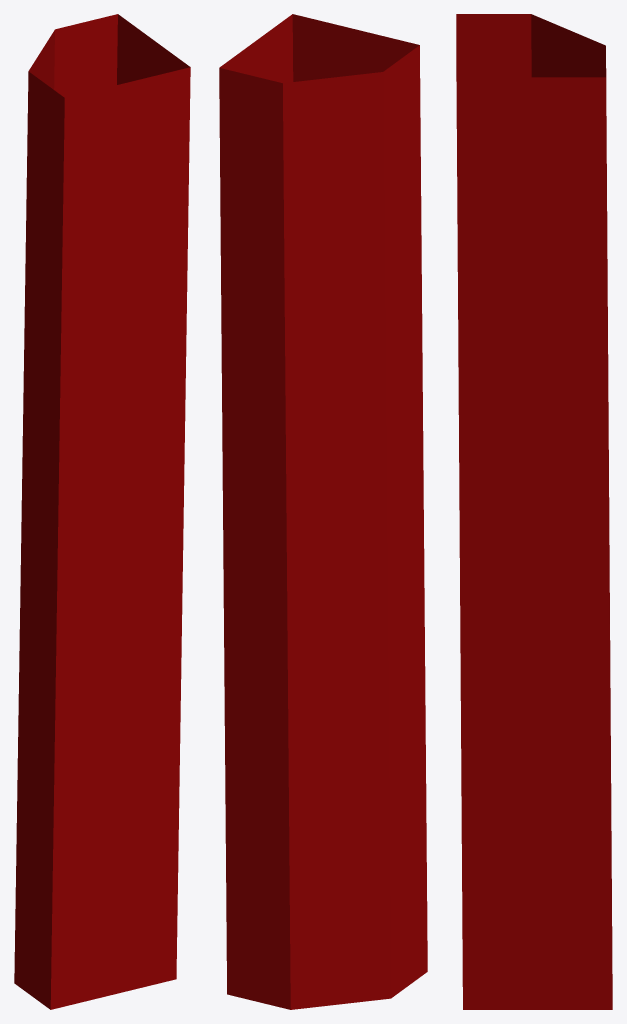
The model's file is PILAR.fbx.
The picture shows the model from 3 angles, left to right: view 1: azimuth 30°, elevation 25°; view 2: azimuth 150°, elevation 25°; view 3: azimuth 270°, elevation 25°; orthographic projection. The views are drawn at different scales.
Visible parts, largest first — view 1: pilar; view 2: pilar; view 3: pilar.
Part boxes in pixels (x1,y1,x2,y2): pilar: (14,14,190,1009); pilar: (219,14,427,1009); pilar: (456,14,612,1009).
Size of the model in its own units: 109 by 692 by 104.
